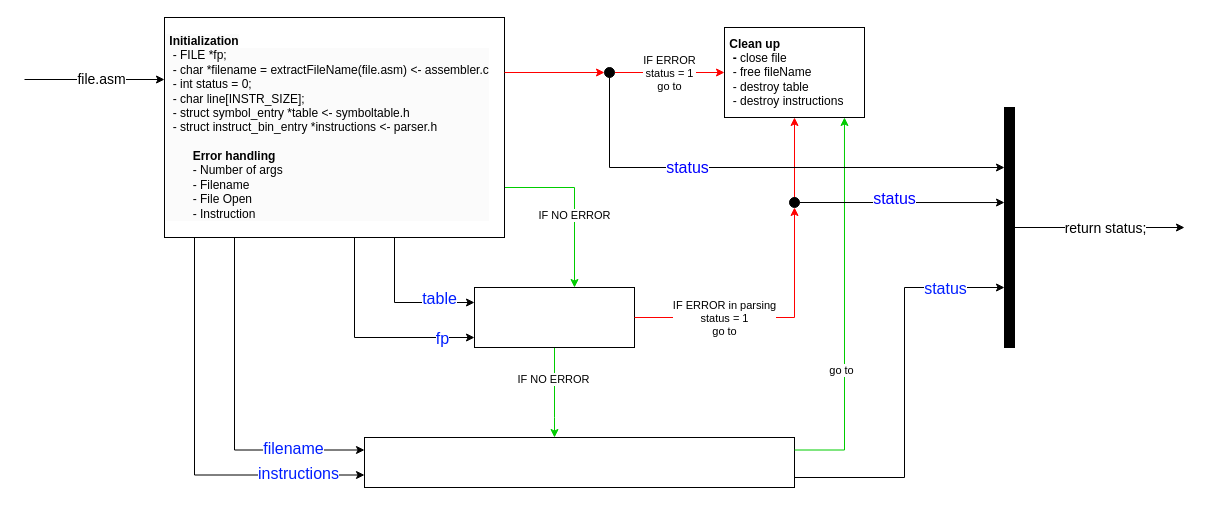
The diagram is 1210 pixels wide and 505 high, and some of its shapes have lost their labels. Here are the shapes that lost their labels. From the top down, the centre of each, then its label:
the point at 554,317: First pass <- assembler.c
the point at 579,462: status = write_binary_instructions (filename, instructions) <- assembler.c
